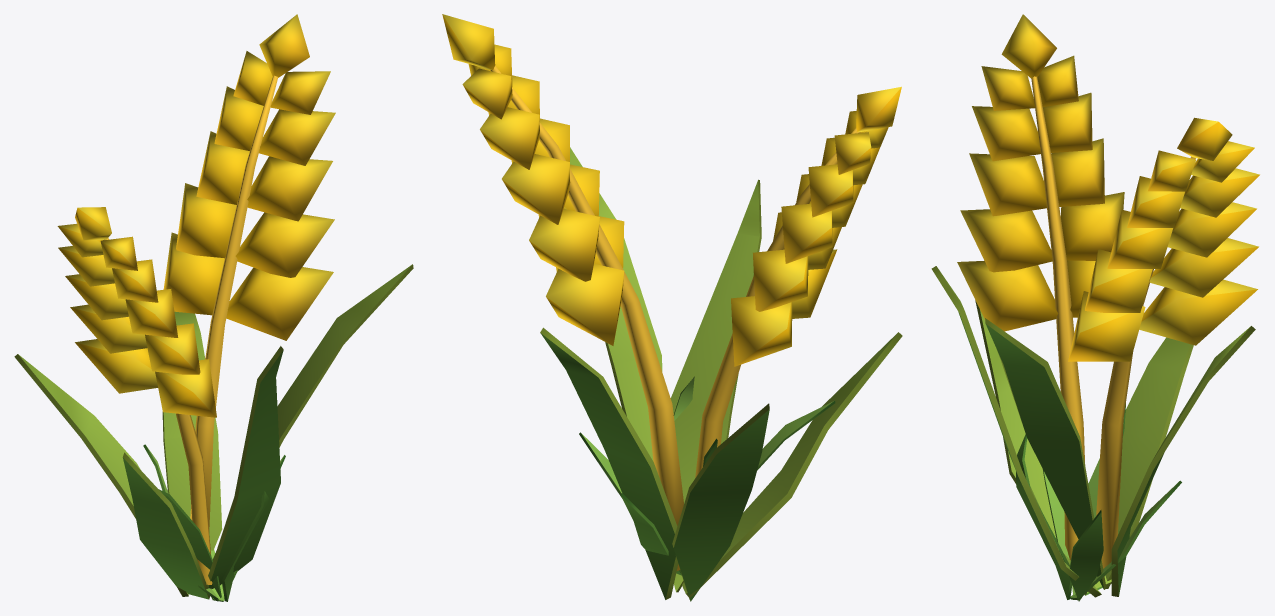
Rendered from Rice_all_form_v2.FBX.
3 renders of one model, left to right at view 1: azimuth 30°, elevation 25°; view 2: azimuth 150°, elevation 25°; view 3: azimuth 270°, elevation 25°, orthographic. The views are drawn at different scales.
Visible parts, largest first — view 1: Night_rice, Child_rice; view 2: Night_rice, Child_rice; view 3: Night_rice, Child_rice.
Part boxes in pixels (<box>): Night_rice: <box>14,14,413,599</box>; Child_rice: <box>143,444,285,601</box>; Night_rice: <box>442,14,902,601</box>; Child_rice: <box>579,376,835,575</box>; Night_rice: <box>931,14,1259,597</box>; Child_rice: <box>1016,403,1181,601</box>.
Bounding box in the file's own units: 1.57 × 2.38 × 1.28.
